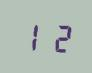one: (19, 18, 44, 52)
two: (45, 19, 70, 54)
